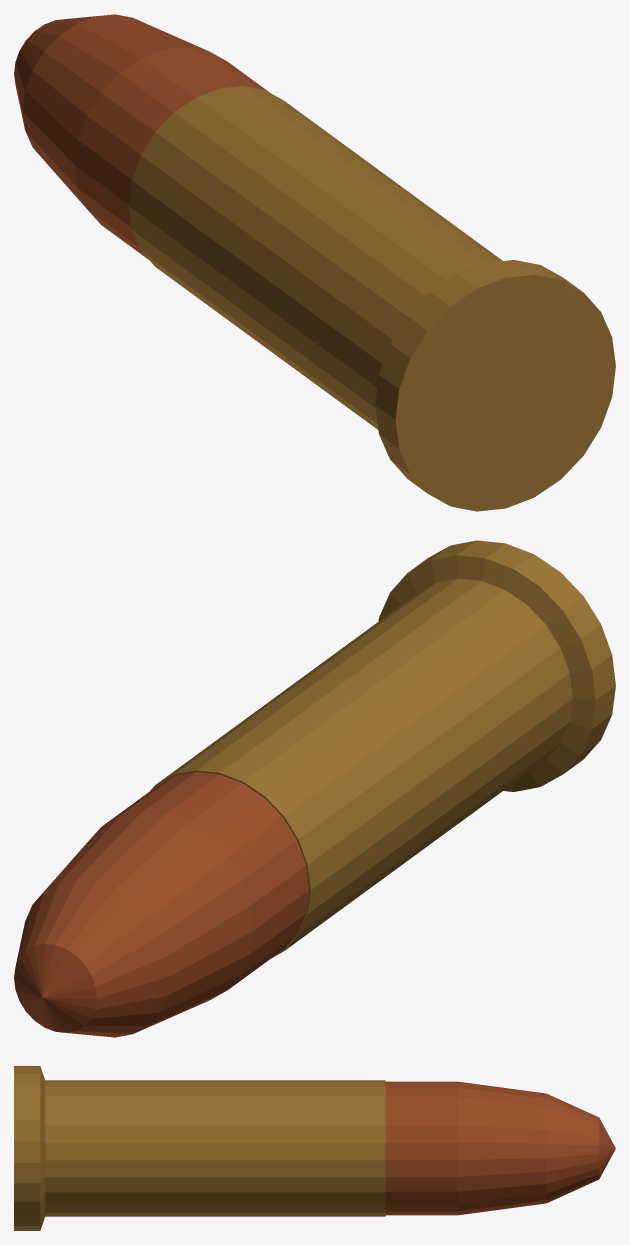
Rendered from municao_22.glb.
3 views of the same model, one above another, from view 1: azimuth 30°, elevation 25°; view 2: azimuth 150°, elevation 25°; view 3: azimuth 270°, elevation 25° (orthographic). The views are drawn at different scales.
Parts seen in each view (by area): view 1: municao_22_latao, municao_22_cobre_bala; view 2: municao_22_latao, municao_22_cobre_bala; view 3: municao_22_latao, municao_22_cobre_bala.
Boxes of the visible parts, x1,y1,x2,y2 form: municao_22_latao: (128, 86, 615, 511); municao_22_cobre_bala: (14, 14, 269, 259); municao_22_latao: (150, 540, 615, 957); municao_22_cobre_bala: (14, 772, 309, 1037); municao_22_latao: (14, 1066, 385, 1230); municao_22_cobre_bala: (385, 1081, 615, 1215).
Size of the model in its own units: 0.0069 by 0.0069 by 0.0251.
